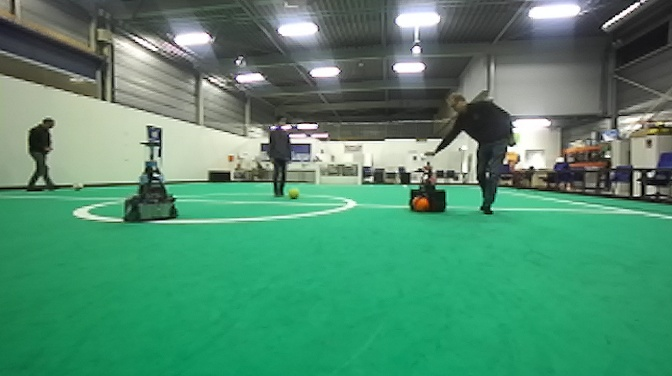ball: (409, 193, 429, 214), (71, 180, 88, 193), (288, 186, 301, 201)
goal: (314, 160, 362, 188)
goalpost: (314, 161, 322, 187), (356, 160, 363, 188)
human: (421, 88, 519, 217), (24, 114, 63, 195), (266, 112, 295, 200)
robot: (119, 140, 182, 226), (406, 155, 449, 216)
